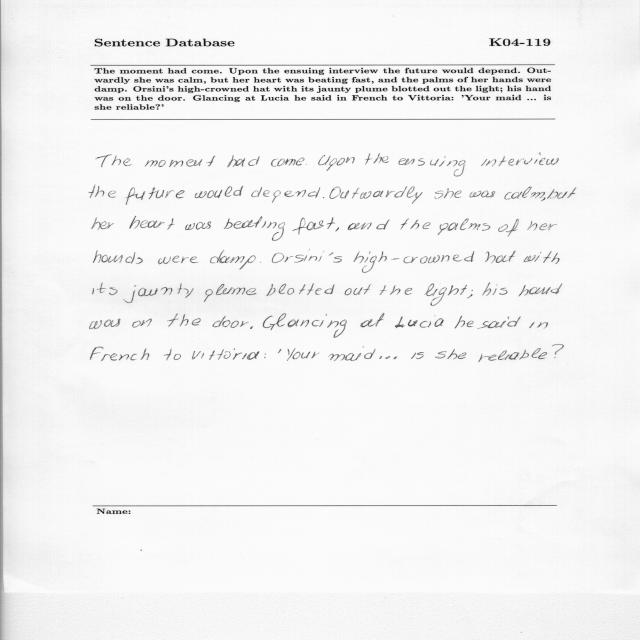word: (354, 251, 475, 273), (263, 313, 347, 338), (329, 186, 423, 204), (224, 216, 285, 241), (399, 156, 466, 177), (124, 283, 194, 303), (251, 187, 320, 203), (481, 153, 559, 167), (126, 187, 185, 205), (424, 283, 467, 306), (204, 284, 256, 302), (266, 283, 335, 296), (210, 251, 256, 270), (438, 219, 491, 235), (91, 347, 150, 361), (192, 348, 259, 360), (145, 156, 216, 167), (272, 252, 342, 263), (293, 218, 336, 235), (329, 346, 376, 361), (478, 349, 529, 362), (93, 251, 143, 264), (129, 216, 175, 230), (504, 187, 546, 202), (519, 283, 563, 297), (318, 155, 355, 171), (195, 186, 244, 198), (395, 317, 444, 329), (477, 316, 521, 329), (531, 345, 564, 360), (524, 251, 560, 264), (98, 154, 133, 167), (167, 314, 201, 327), (213, 316, 249, 328), (287, 348, 319, 361), (348, 220, 389, 230), (485, 251, 516, 264), (227, 155, 260, 167), (361, 313, 385, 328), (498, 219, 519, 236), (89, 185, 116, 198), (482, 283, 508, 296), (401, 219, 431, 230), (380, 285, 413, 295), (550, 187, 577, 199), (158, 256, 198, 264), (90, 319, 121, 329), (435, 349, 466, 359), (527, 221, 557, 231), (93, 283, 118, 295), (271, 158, 304, 167), (435, 188, 462, 199), (345, 284, 372, 295), (365, 153, 389, 165), (92, 218, 114, 231), (455, 316, 474, 329), (185, 222, 211, 231), (164, 349, 181, 361), (470, 191, 496, 198), (132, 319, 152, 328), (529, 322, 548, 329), (411, 352, 424, 359), (547, 189, 555, 199), (380, 356, 398, 360), (467, 290, 473, 298), (335, 227, 339, 232), (278, 349, 281, 353), (250, 326, 253, 329), (264, 354, 266, 358), (554, 357, 556, 358), (306, 164, 307, 165), (323, 197, 324, 198), (260, 262, 261, 263)
